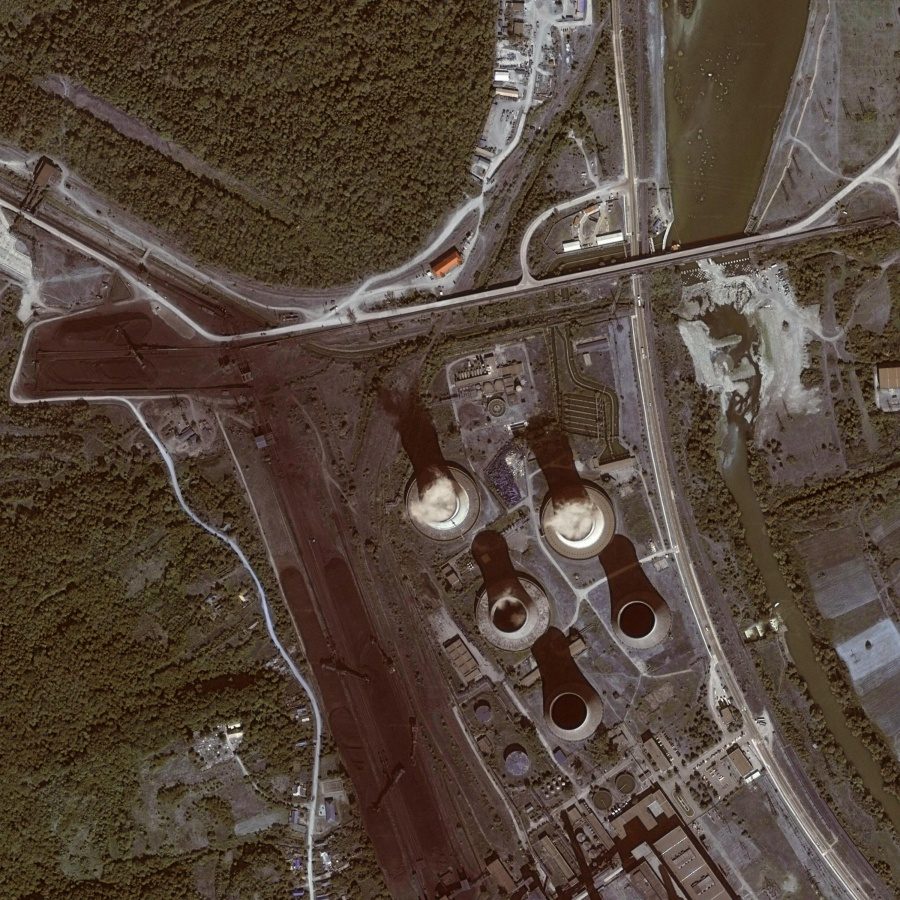PowerPlant: (244, 343, 684, 886)
